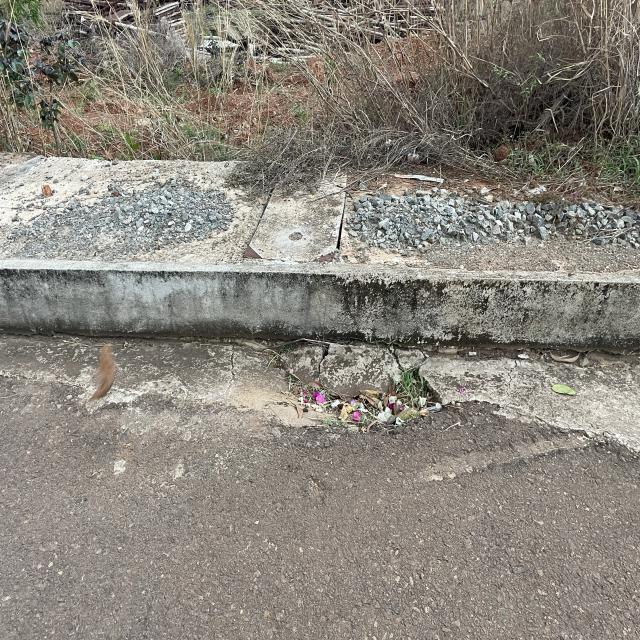D40: (118, 336, 622, 463)
